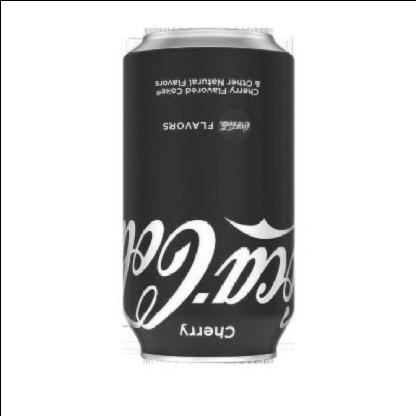alumunium_can: (120, 26, 294, 364)
